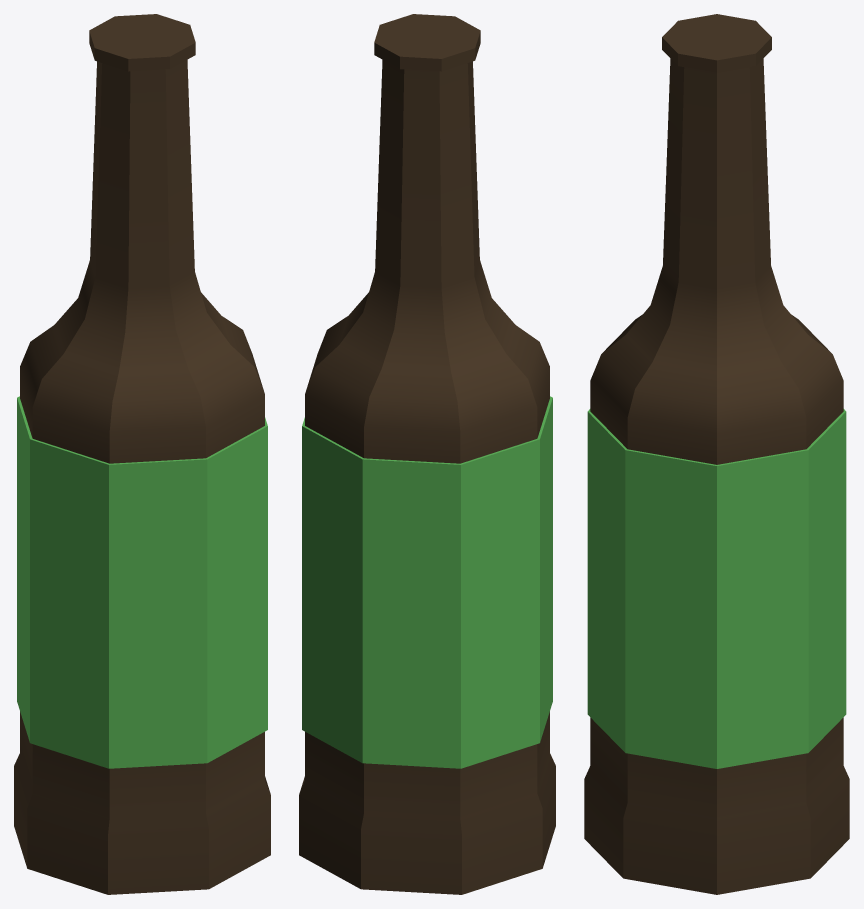
File: soda2.fbx
3 renders of one model, left to right at view 1: azimuth 30°, elevation 25°; view 2: azimuth 150°, elevation 25°; view 3: azimuth 270°, elevation 25°, orthographic.
Visible parts, largest first — view 1: soda_2; view 2: soda_2; view 3: soda_2.
Boxes of the visible parts, x1,y1,x2,y2 form: soda_2: (14,14,270,894); soda_2: (299,14,555,894); soda_2: (584,14,849,894).
Size of the model in its own units: 2.1 by 6.99 by 2.1.
